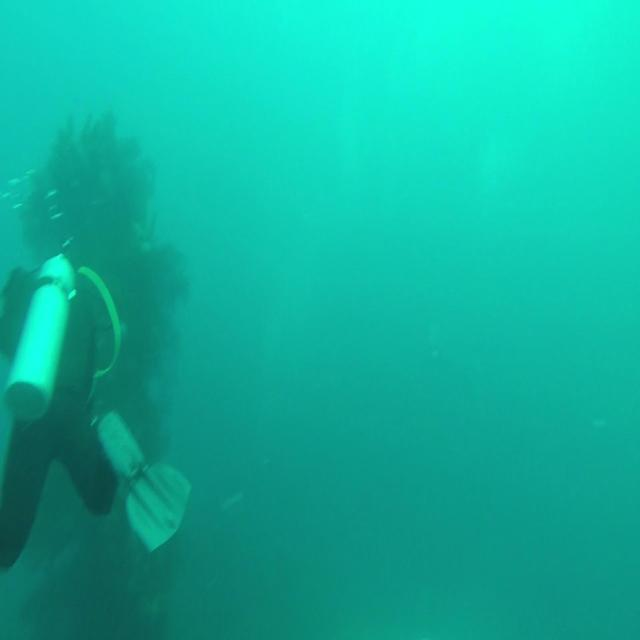human: (1, 247, 191, 571)
